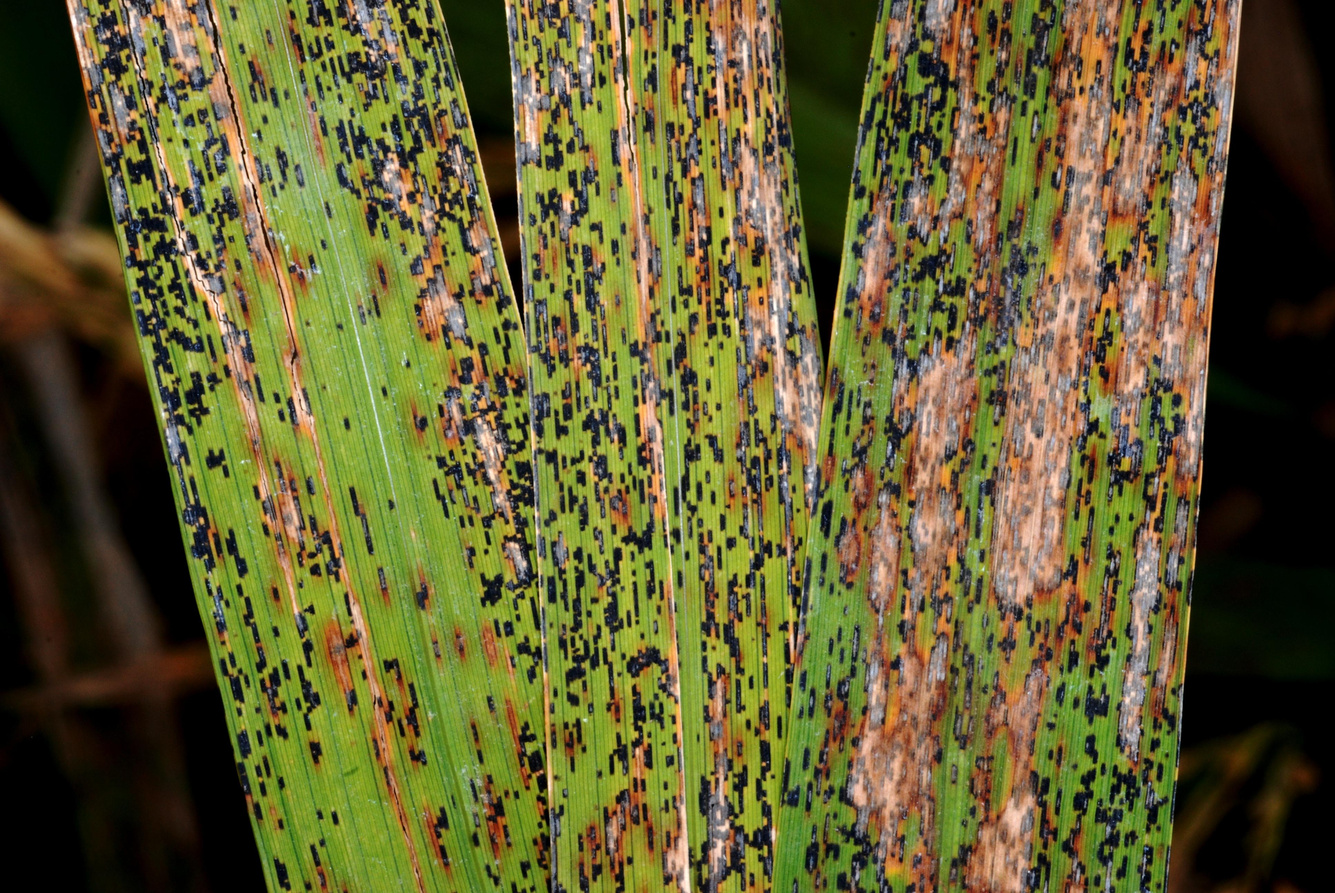Leaf Smut: (64, 0, 554, 893), (775, 1, 1242, 891), (510, 6, 825, 893), (523, 6, 639, 502), (305, 0, 490, 298), (80, 1, 246, 319), (646, 180, 765, 530), (887, 44, 961, 167)
